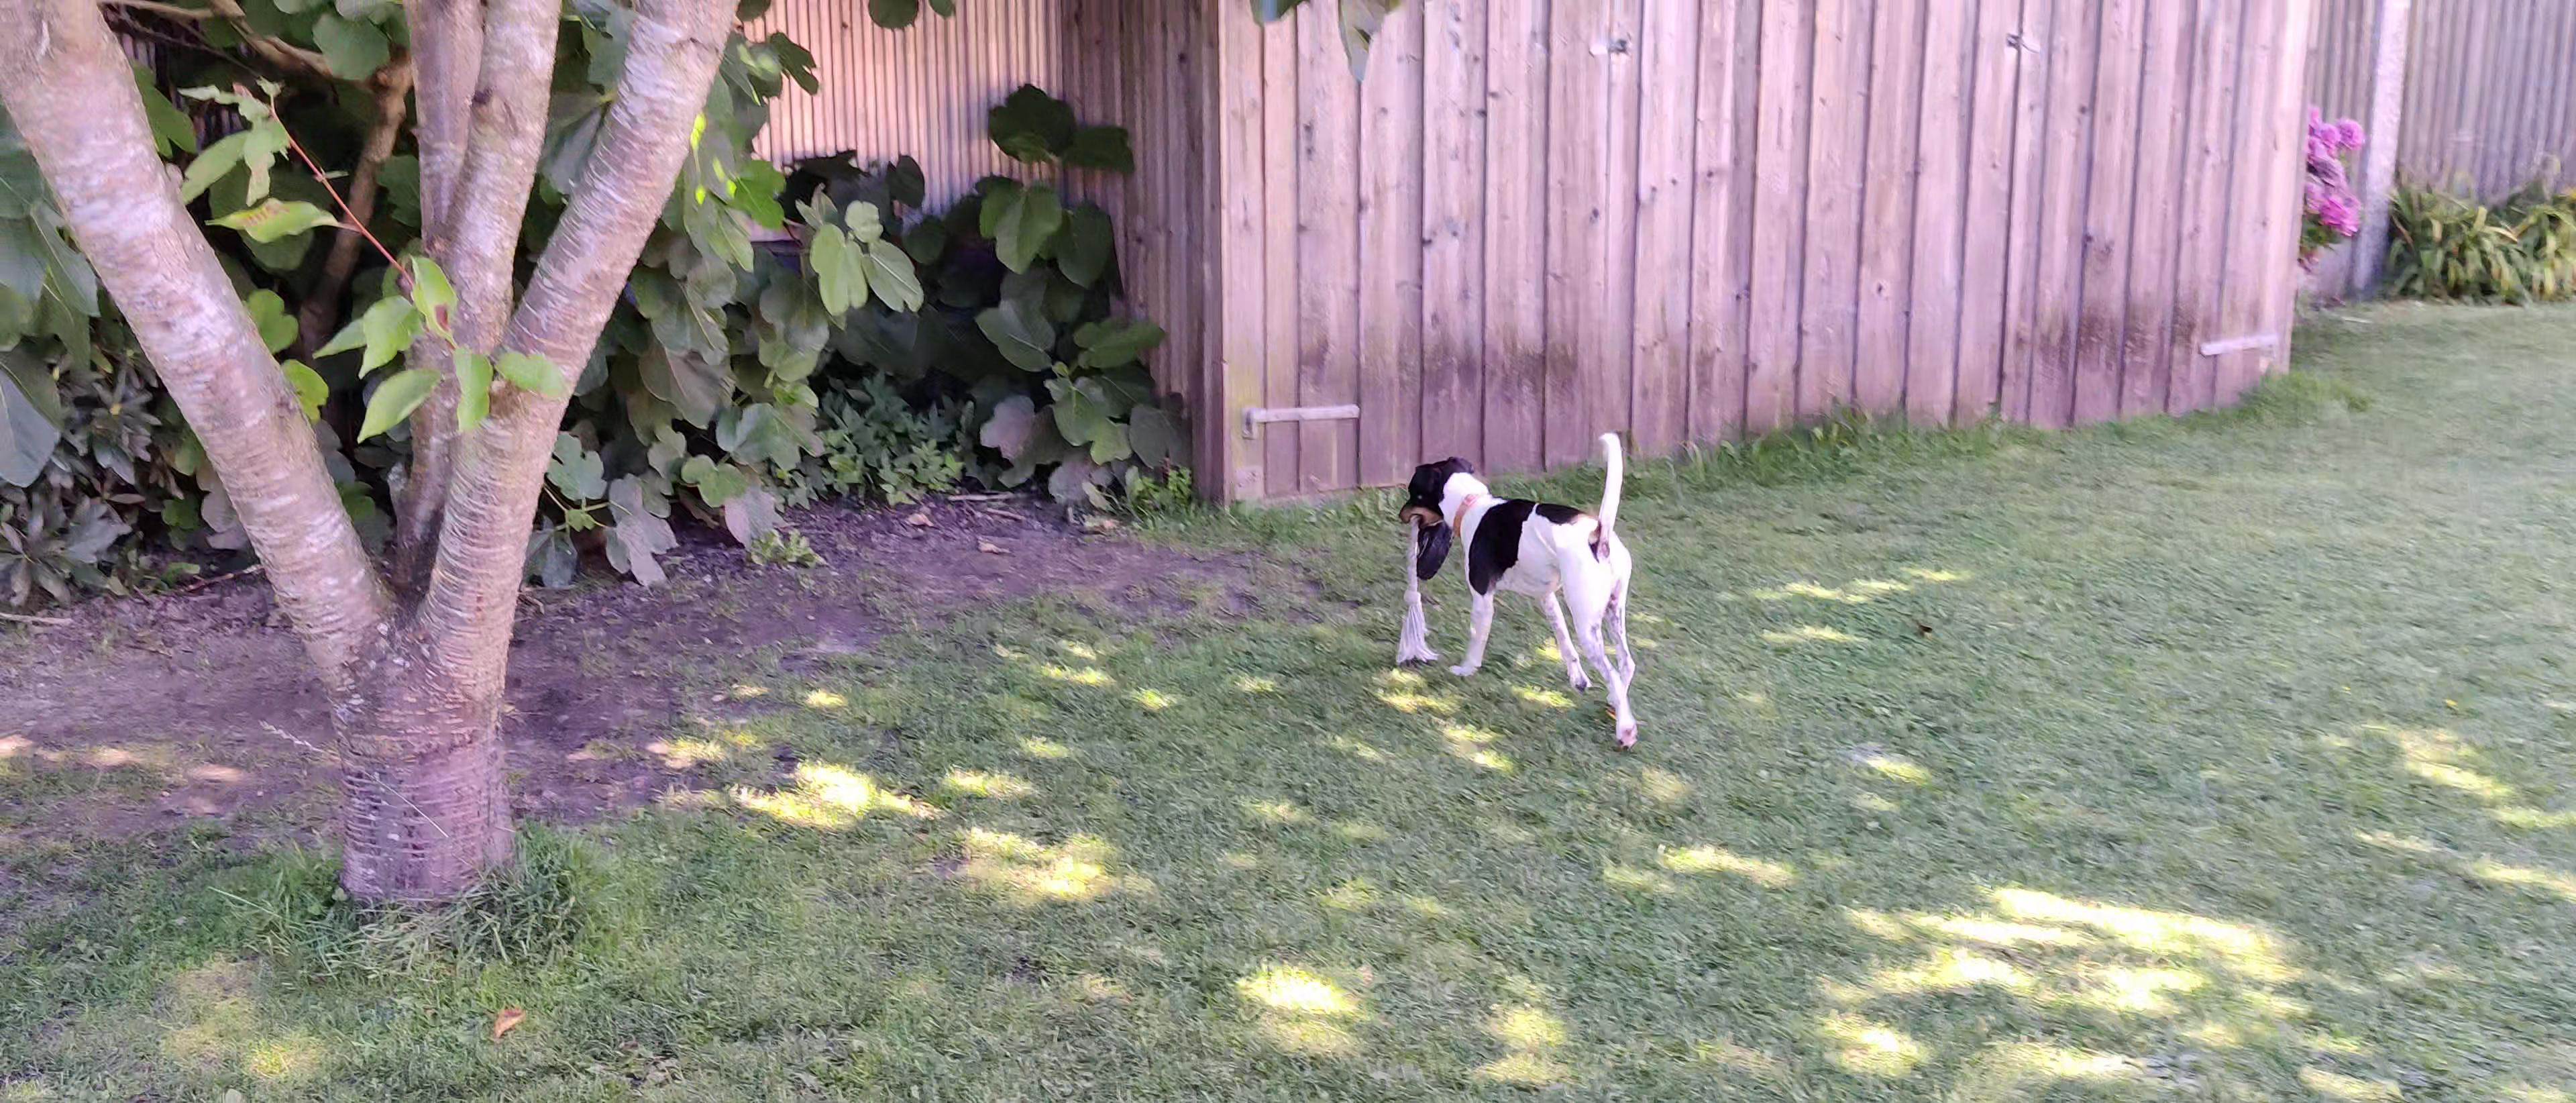Dog: (1395, 429, 1646, 748)
